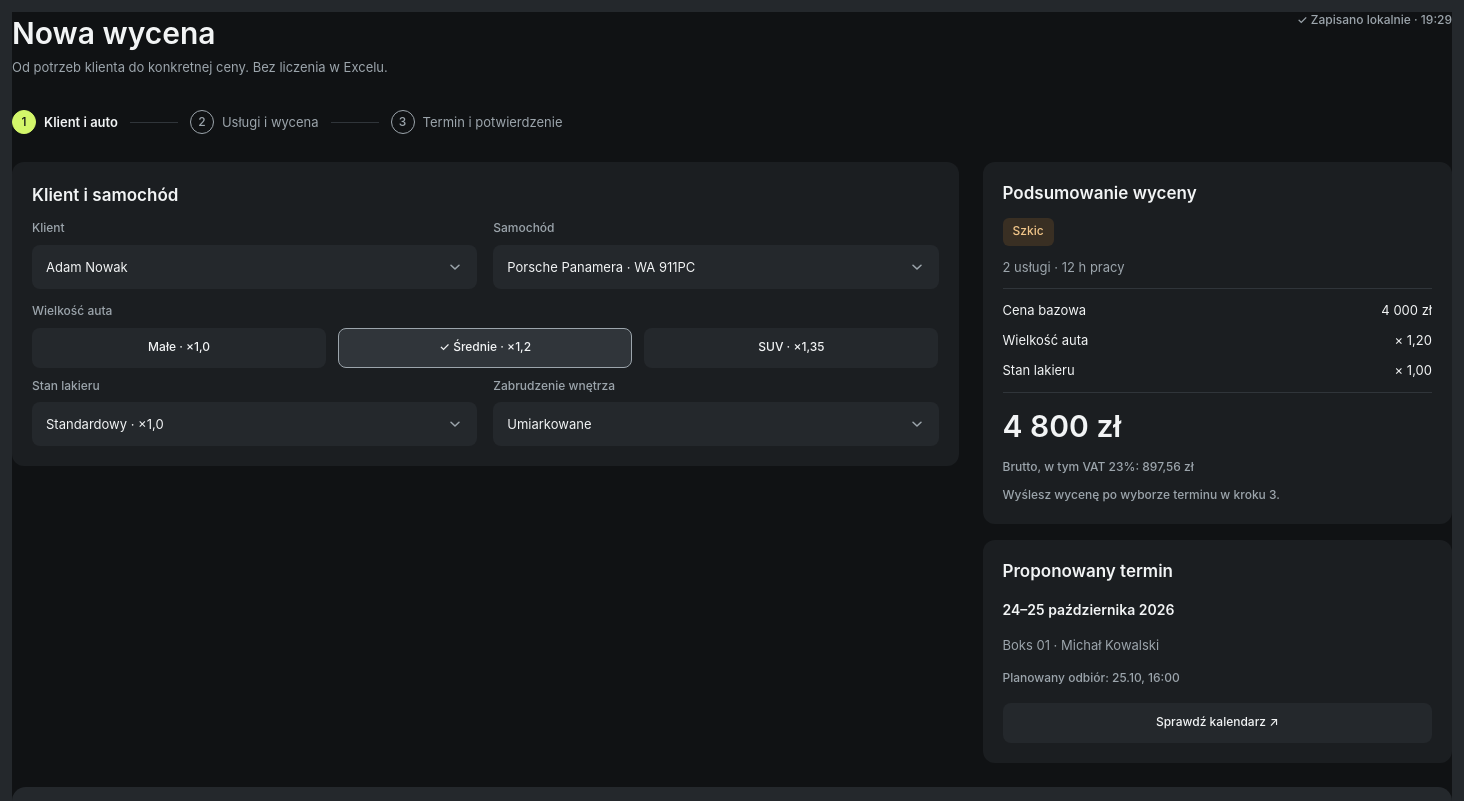
Test case: shows D-06 totals, recalculates size, paint and duration using Decimal
The width and height of the screenshot is (1464, 801).
Check: the text "Brutto, w tym VAT 23%: 897,56 zł" is shown, box [1002,458,1194,475]
Check: the text "2 usługi · 12 h pracy" is shown, box [1002,258,1124,276]
Click the radio button labelled "SUV · ×1,35" at point(791, 348), box [644,328,938,368]
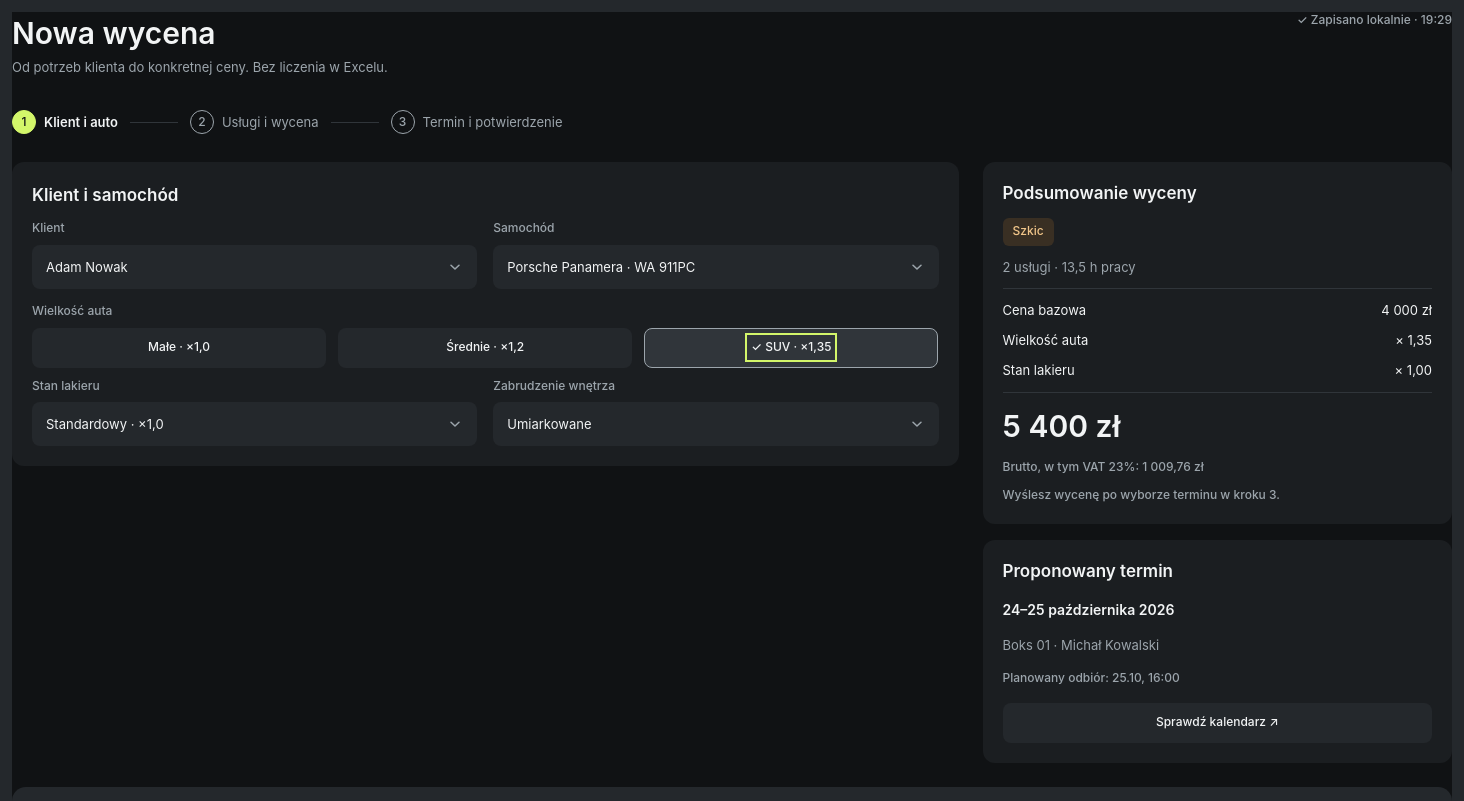
Check: the text named "Kwota brutto" reads "5 400 zł", box [1002,408,1120,444]
Check: the text "2 usługi · 13,5 h pracy" is shown, box [1002,258,1136,276]
Click the dropdown named "Stan lakieru" at point(105, 424), box [32,402,477,446]
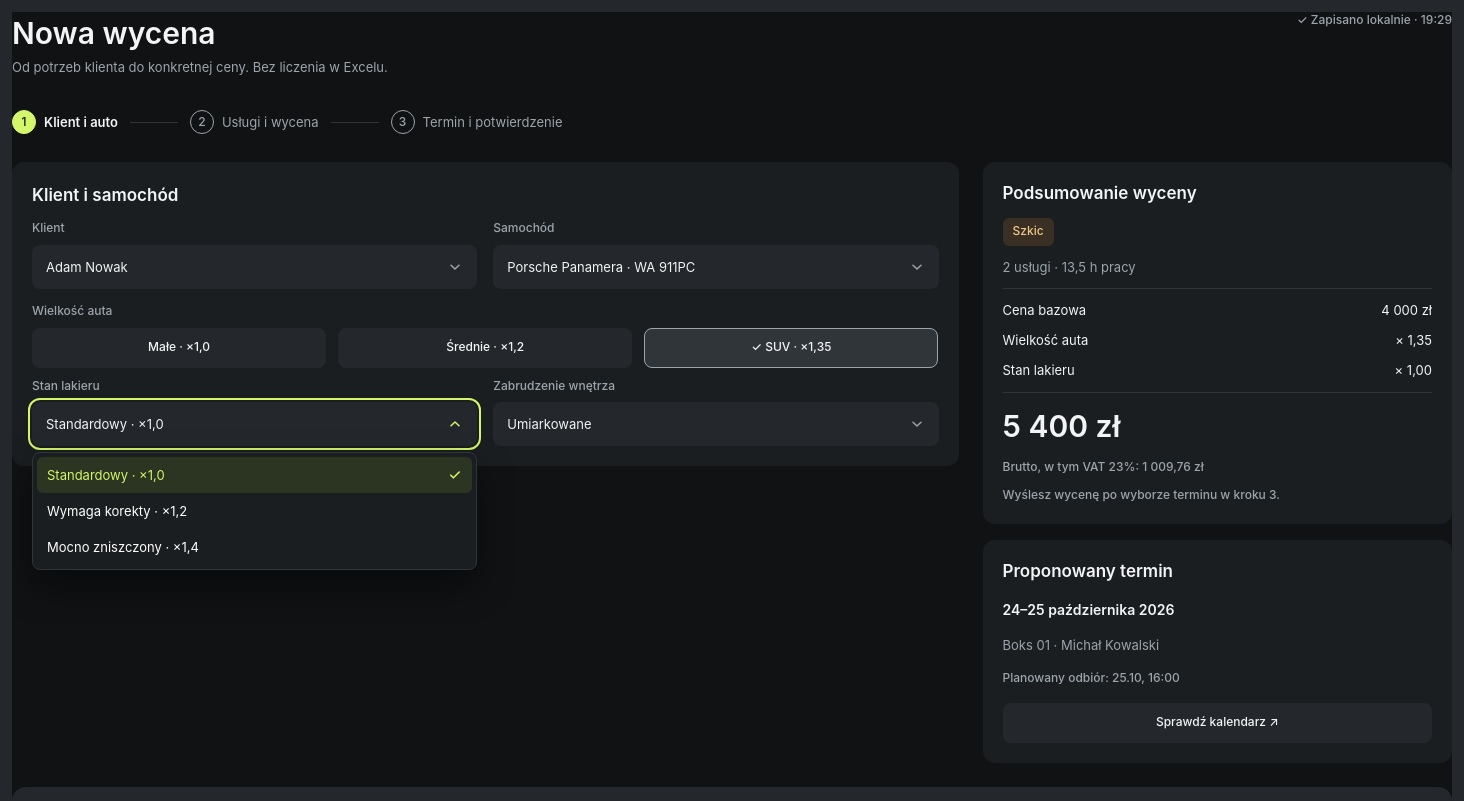
Click the option "Wymaga korekty · ×1,2" at point(117, 511), box [47,503,187,519]
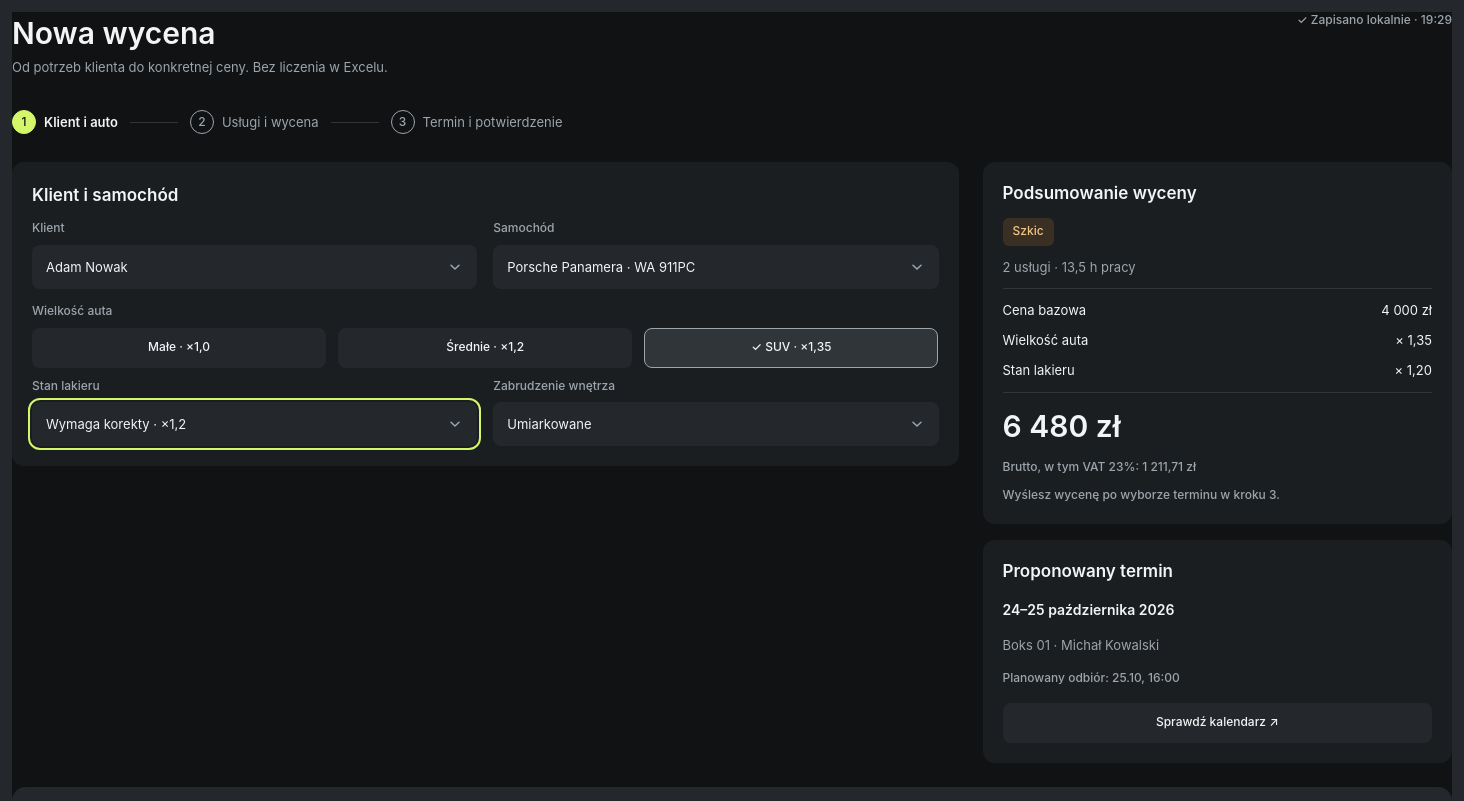
Check: the text named "Kwota brutto" reads "6 480 zł", box [1002,408,1121,444]
